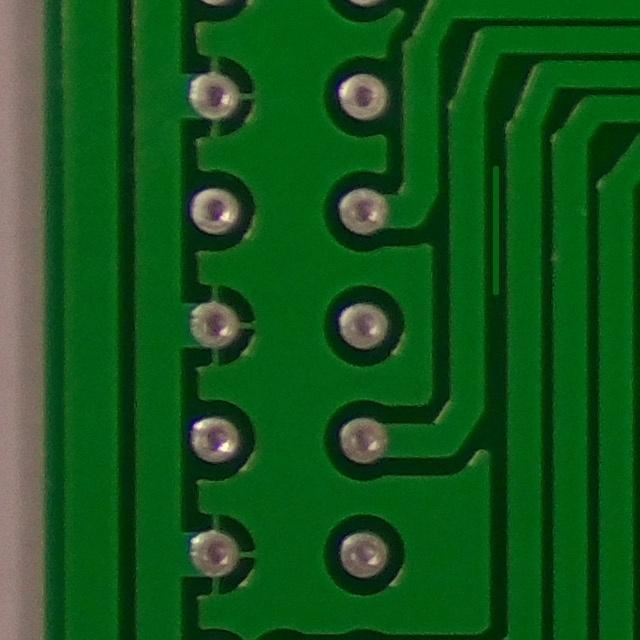spurious_copper: (474, 156, 527, 302)
